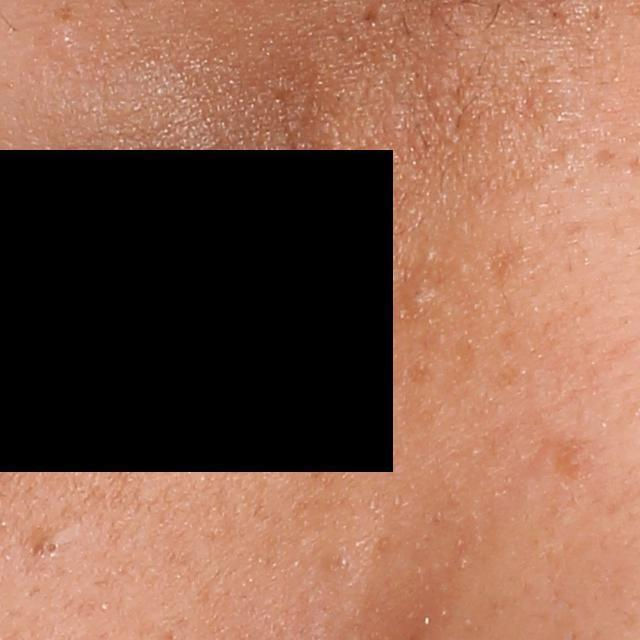comedo: (37, 527, 70, 567)
